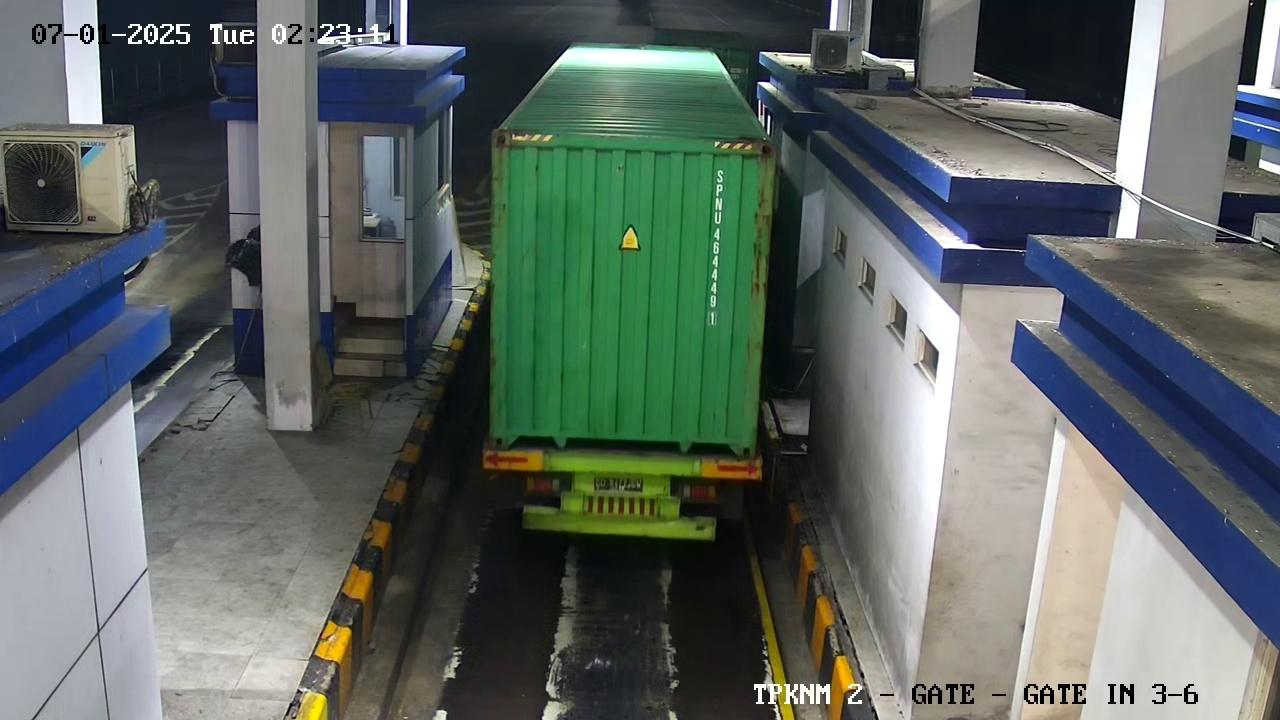Container_ID_Vertikal: (695, 159, 737, 342)
